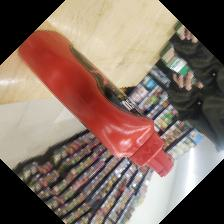Chinsu: (18, 29, 176, 179)
